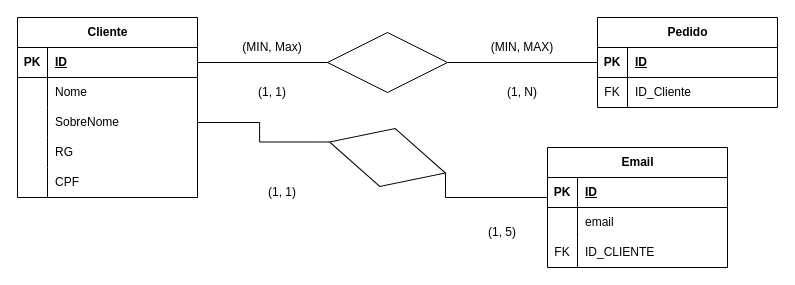
Image size: 795x285. Some labels were removed from this diagram. Each missing label, with the centre of its shape:
FAZ: the point at 387,62
POSSUI: the point at 387,157
